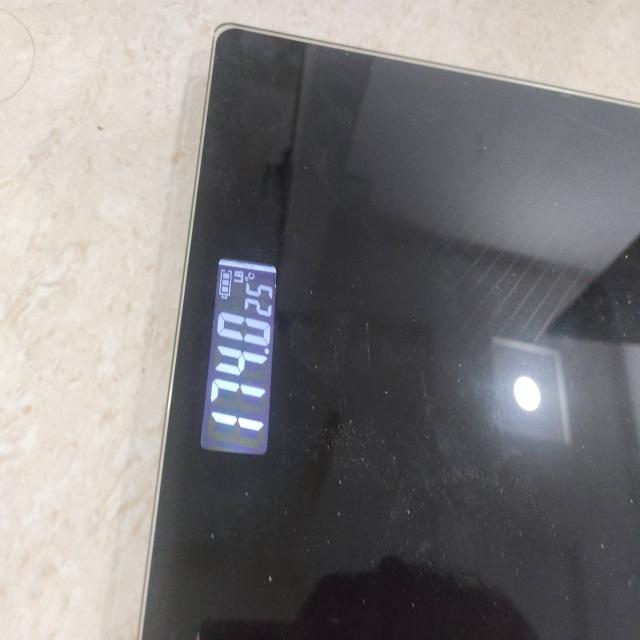ws: (5, 24, 640, 640)
